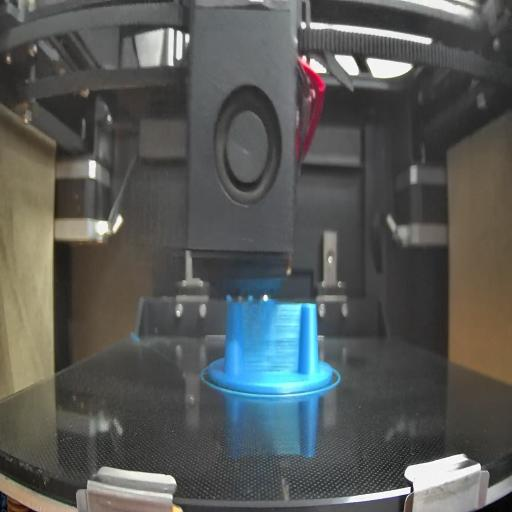stringing: (242, 305, 303, 377)
